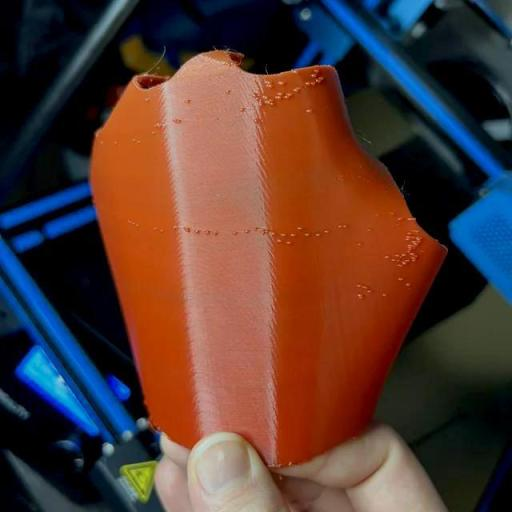blobs: (262, 79, 276, 90), (267, 97, 278, 108), (336, 222, 350, 230), (274, 78, 285, 88), (405, 242, 415, 253), (316, 74, 324, 87), (304, 105, 315, 114), (276, 90, 284, 102), (292, 86, 304, 94), (154, 120, 164, 129), (182, 97, 193, 105), (301, 231, 310, 240), (172, 117, 182, 125), (236, 104, 246, 112), (284, 93, 294, 101), (283, 238, 293, 246), (355, 292, 365, 300), (261, 93, 270, 101), (184, 226, 193, 234), (406, 214, 415, 222), (312, 232, 322, 239), (251, 90, 259, 98), (405, 281, 413, 289), (404, 232, 412, 240), (390, 211, 398, 218), (362, 284, 370, 291), (278, 233, 287, 239), (410, 253, 417, 260), (225, 89, 233, 95), (296, 226, 304, 232), (323, 228, 331, 234), (232, 230, 240, 236), (204, 230, 212, 236), (364, 226, 372, 232), (356, 281, 362, 289), (382, 292, 390, 298), (396, 277, 404, 283), (412, 229, 420, 235), (310, 73, 317, 79), (275, 238, 282, 244), (244, 228, 250, 235), (194, 228, 201, 234), (289, 233, 297, 238), (310, 82, 316, 88), (357, 241, 363, 247), (384, 254, 390, 260), (401, 252, 407, 258), (253, 226, 260, 231), (376, 210, 381, 217), (304, 81, 309, 87), (213, 231, 219, 236), (398, 217, 404, 222), (398, 263, 404, 268), (395, 252, 399, 258)
